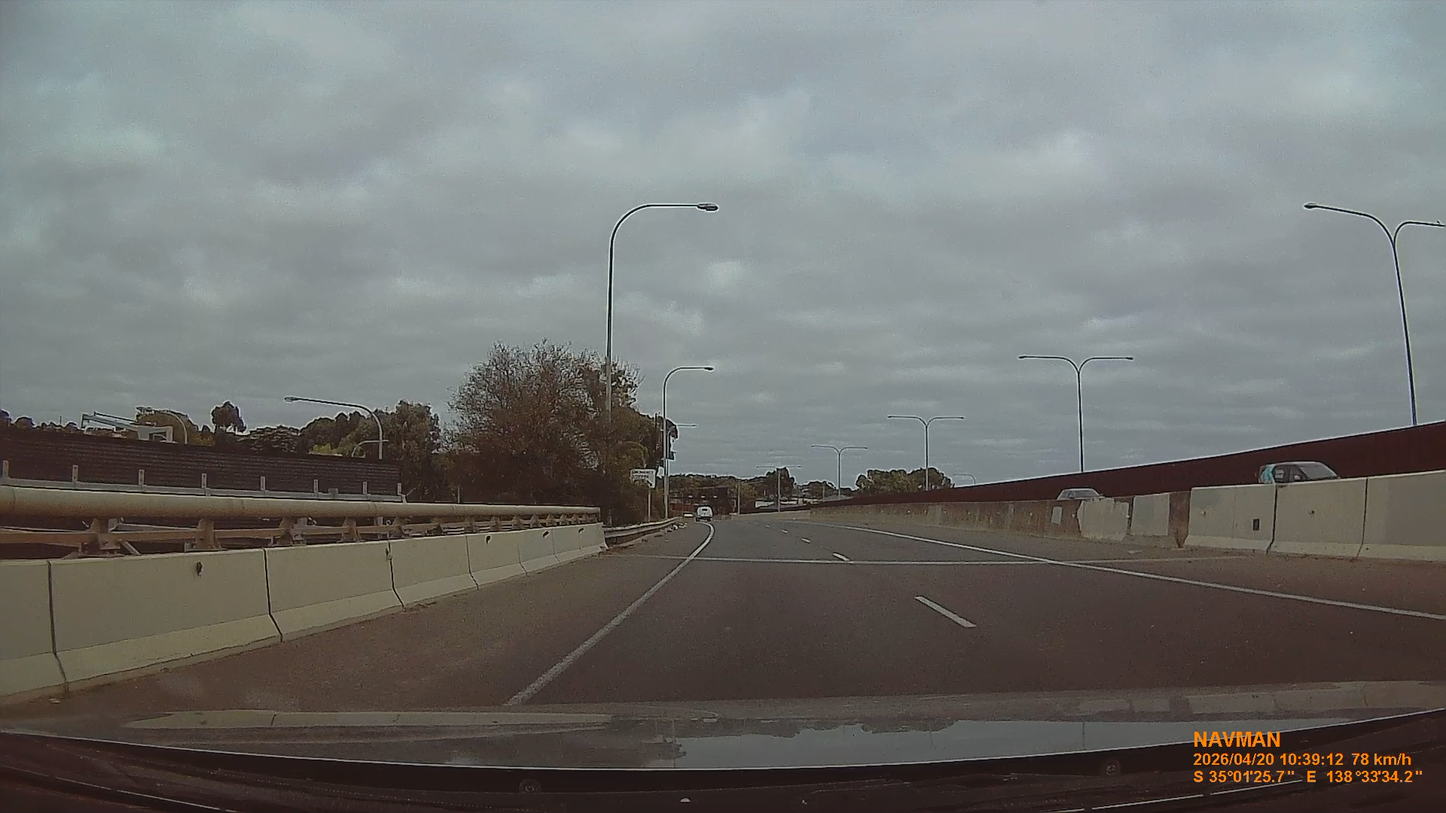road barriers: (0, 486, 606, 704), (813, 481, 1445, 563), (1188, 480, 1367, 556), (1360, 470, 1445, 560), (604, 516, 688, 549)
